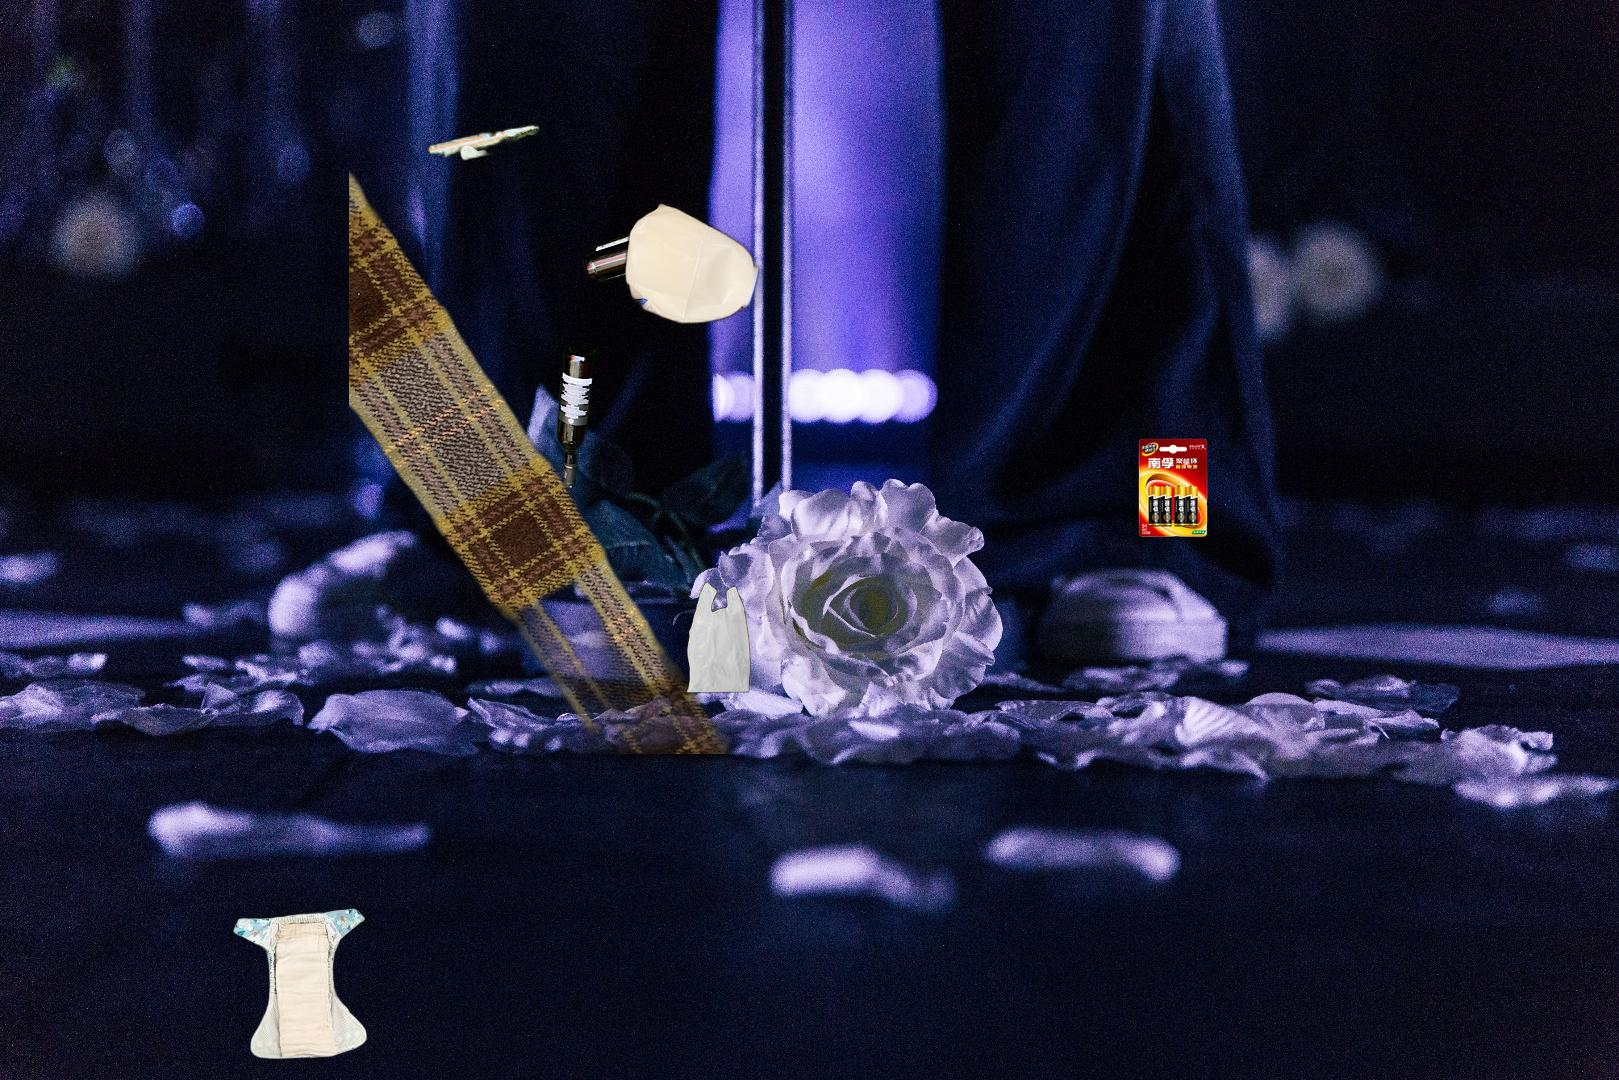battery: (1136, 436, 1210, 540)
glass: (424, 119, 706, 495)
plastic-bag: (684, 580, 753, 695)
plastic-bottles: (350, 71, 861, 755)
trash: (230, 906, 370, 1062)
